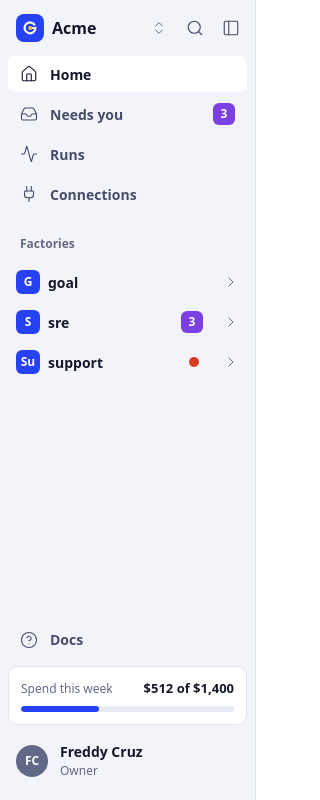
Test: the collapsed rail › gives each enabled entry a tooltip with its label
Click the button named "Collapse sidebar".
click(231, 28)  # box [215, 12, 247, 44]
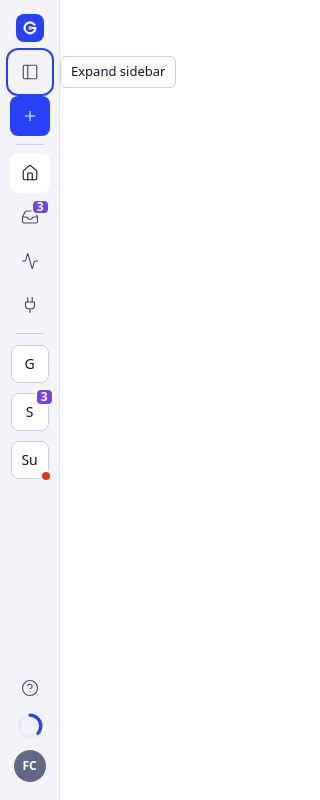
Focus the link named "Connections" at [30, 305], box [20, 296, 38, 314]
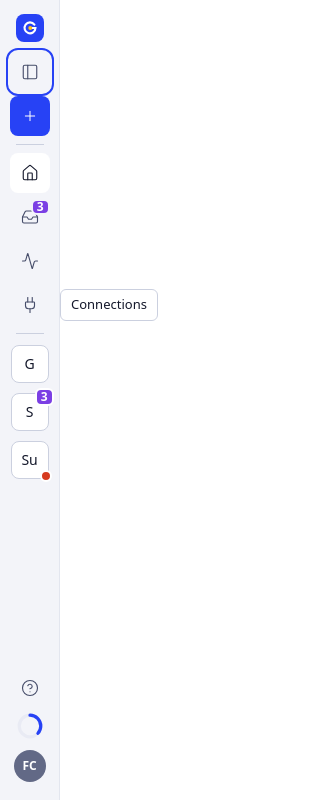
expect the tooltip "Connections" is shown: met, box [60, 289, 158, 320]
